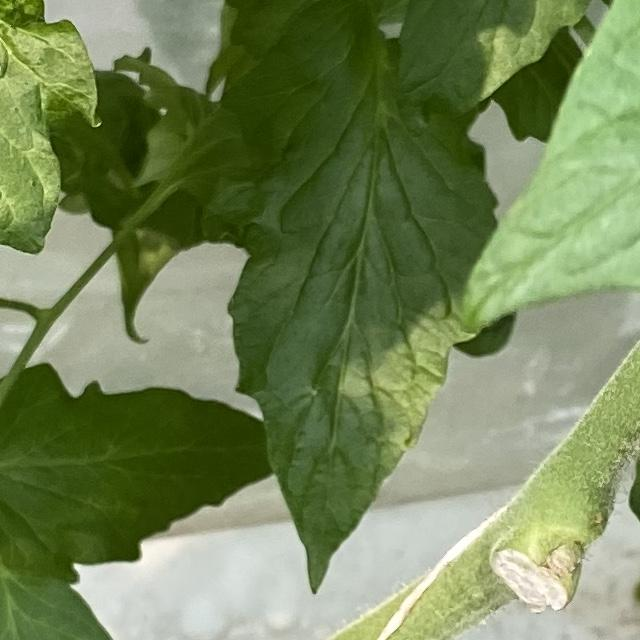tomato: (0, 154, 238, 624)
